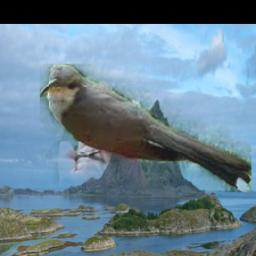Cuckoo: (40, 65, 251, 193)
